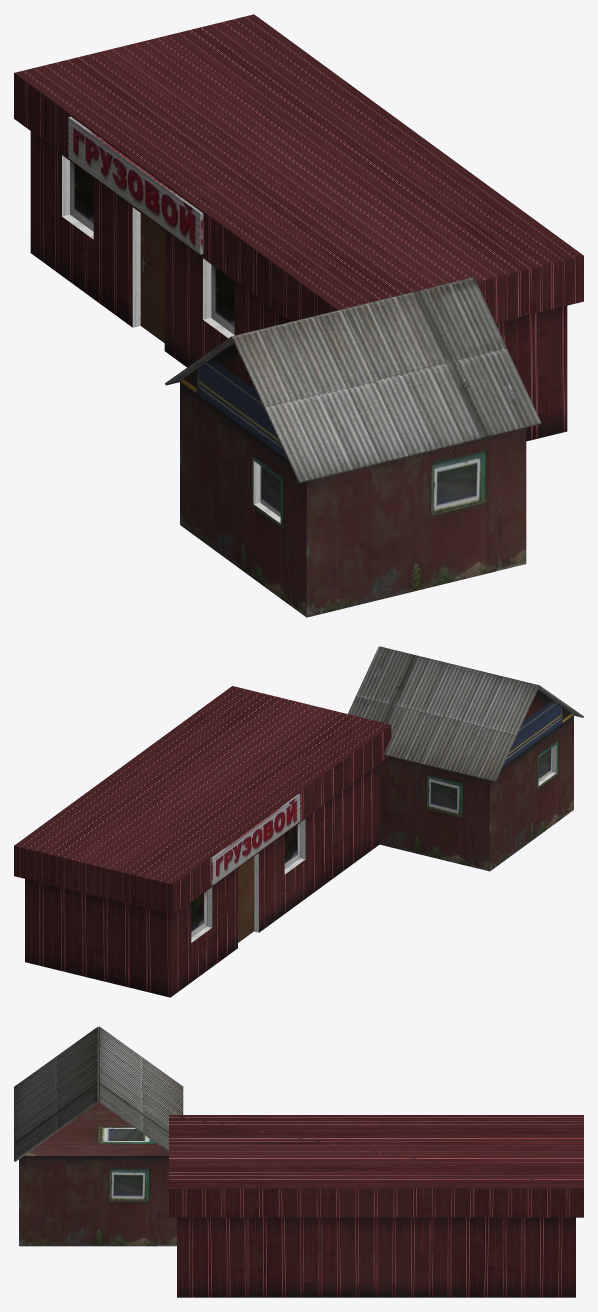
File: ruspoltract_servis3.FBX
3 views of the same model, one above another, from view 1: azimuth 30°, elevation 25°; view 2: azimuth 150°, elevation 25°; view 3: azimuth 270°, elevation 25° (orthographic). The views are drawn at different scales.
Parts seen in each view (by area): view 1: ruspoltract_servis3; view 2: ruspoltract_servis3; view 3: ruspoltract_servis3.
Part boxes in pixels (x1=…): ruspoltract_servis3: x1=14, y1=14, x2=583, y2=617; ruspoltract_servis3: x1=14, y1=646, x2=583, y2=997; ruspoltract_servis3: x1=14, y1=1026, x2=583, y2=1297.
Size of the model in its own units: 743 by 1429 by 413.
